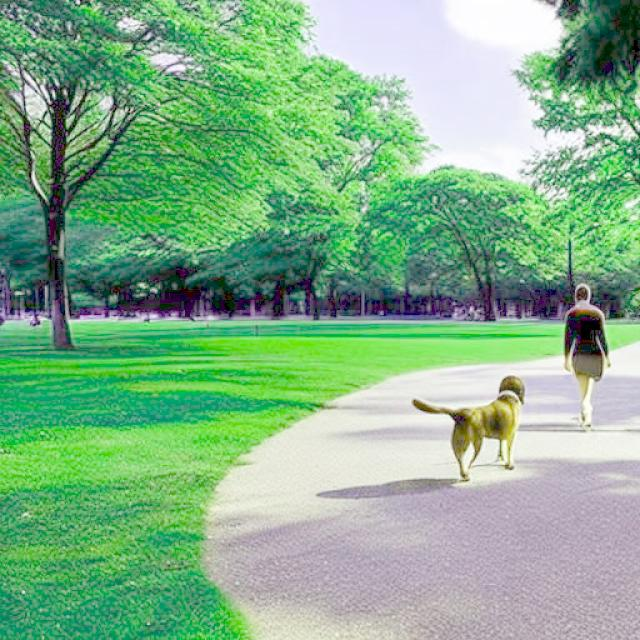Unleashed_Dog: (411, 352, 608, 481)
